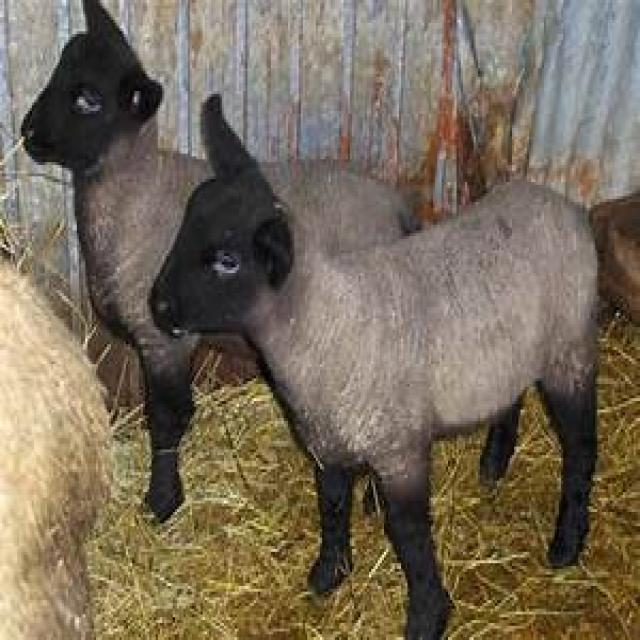animal: (148, 93, 600, 640), (25, 0, 412, 518)
